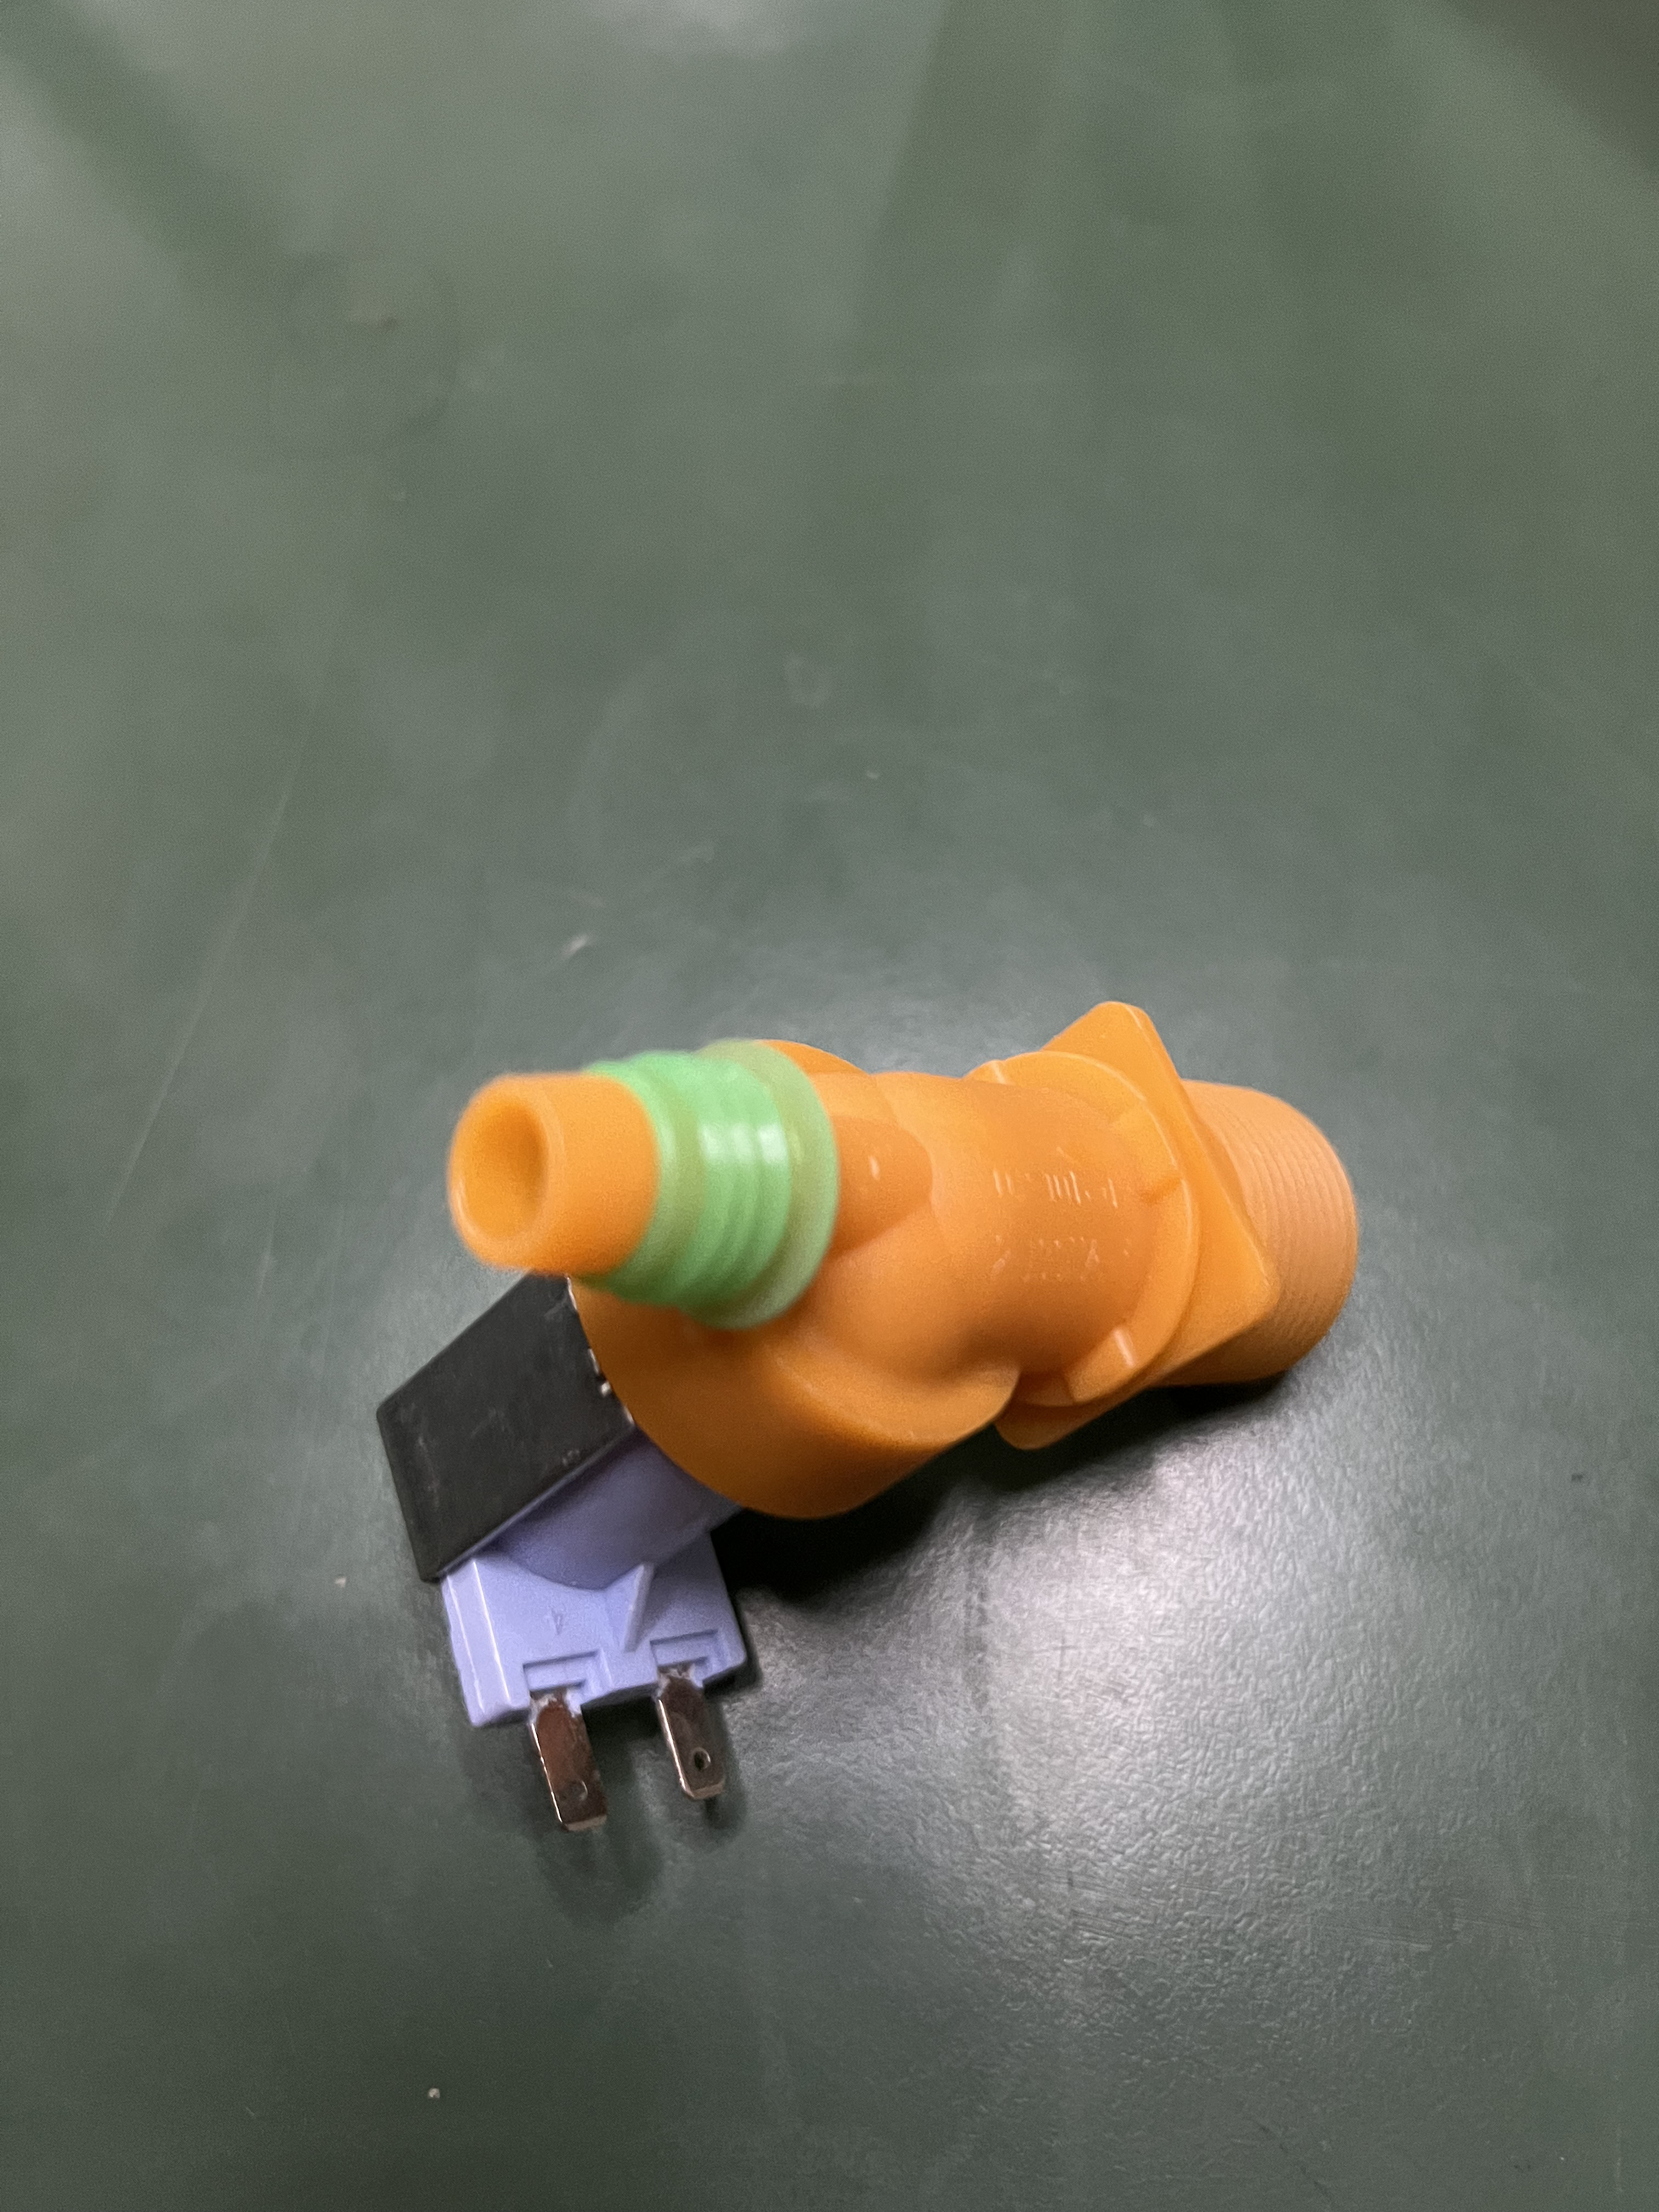ss_inlet_valves: (298, 930, 1403, 1860)
